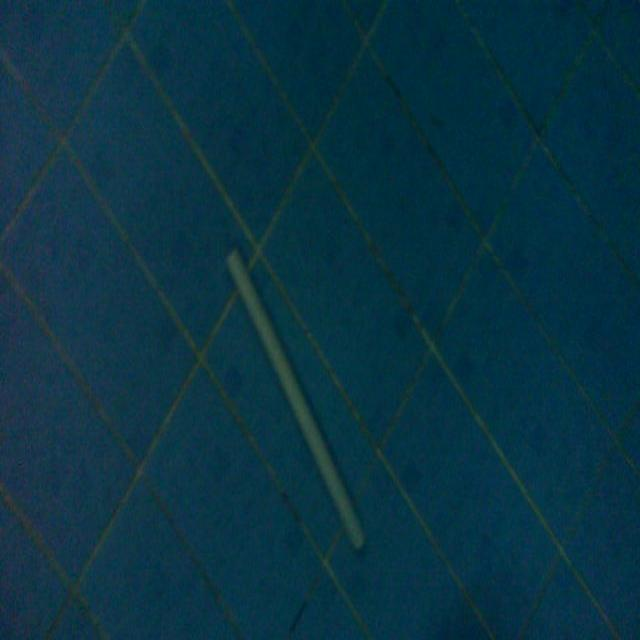Cube: (223, 240, 367, 553)
